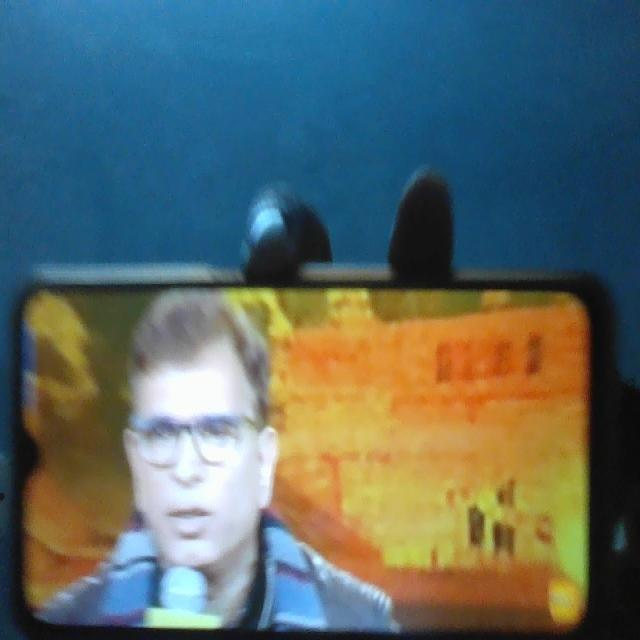fake: (116, 280, 282, 595)
